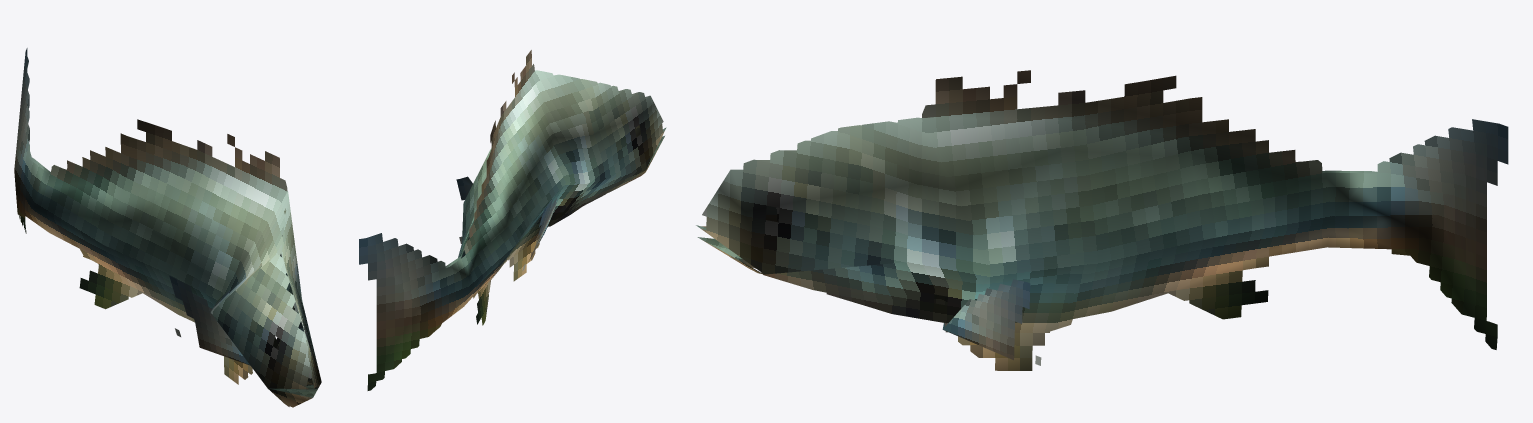
The model's file is Fish01.obj.
3 renders of one model, left to right at view 1: azimuth 30°, elevation 25°; view 2: azimuth 150°, elevation 25°; view 3: azimuth 270°, elevation 25°, orthographic. The views are drawn at different scales.
Parts seen in each view (by area): view 1: Mesh_0; view 2: Mesh_0; view 3: Mesh_0.
Part boxes in pixels (x1,y1,x2,y2): Mesh_0: (14,48,321,407); Mesh_0: (359,50,666,390); Mesh_0: (696,70,1508,370).
Bounding box in the file's own units: 0.1895 × 0.3876 × 0.7179.
1 material, 1 textured.
